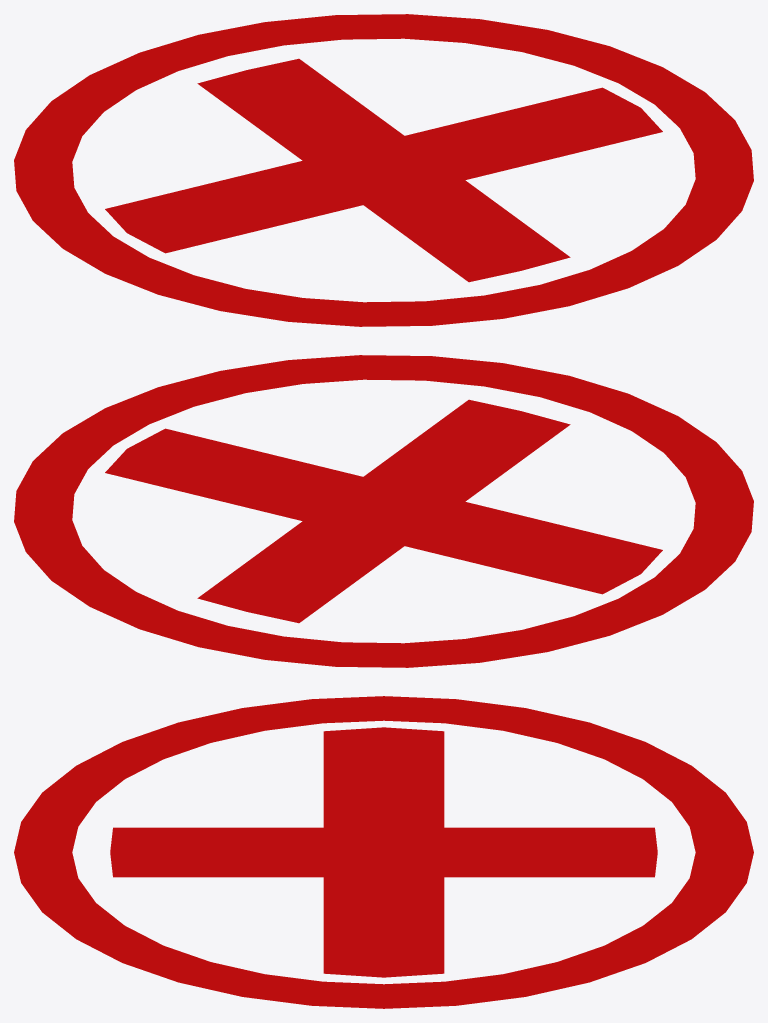
The model's file is Marker.fbx.
3 renders of one model, top to bottom at view 1: azimuth 30°, elevation 25°; view 2: azimuth 150°, elevation 25°; view 3: azimuth 270°, elevation 25°, orthographic.
Visible parts, largest first — view 1: Cylinder, Cube; view 2: Cylinder, Cube; view 3: Cylinder, Cube.
Part boxes in pixels (left/top/right/bottom): Cylinder: left=14, top=14, right=753, bottom=326; Cube: left=105, top=58, right=662, bottom=282; Cylinder: left=14, top=355, right=753, bottom=667; Cube: left=105, top=399, right=662, bottom=623; Cylinder: left=14, top=696, right=753, bottom=1008; Cube: left=110, top=727, right=657, bottom=977.
Bounding box in the file's own units: 200 × 3.26e-05 × 200.
